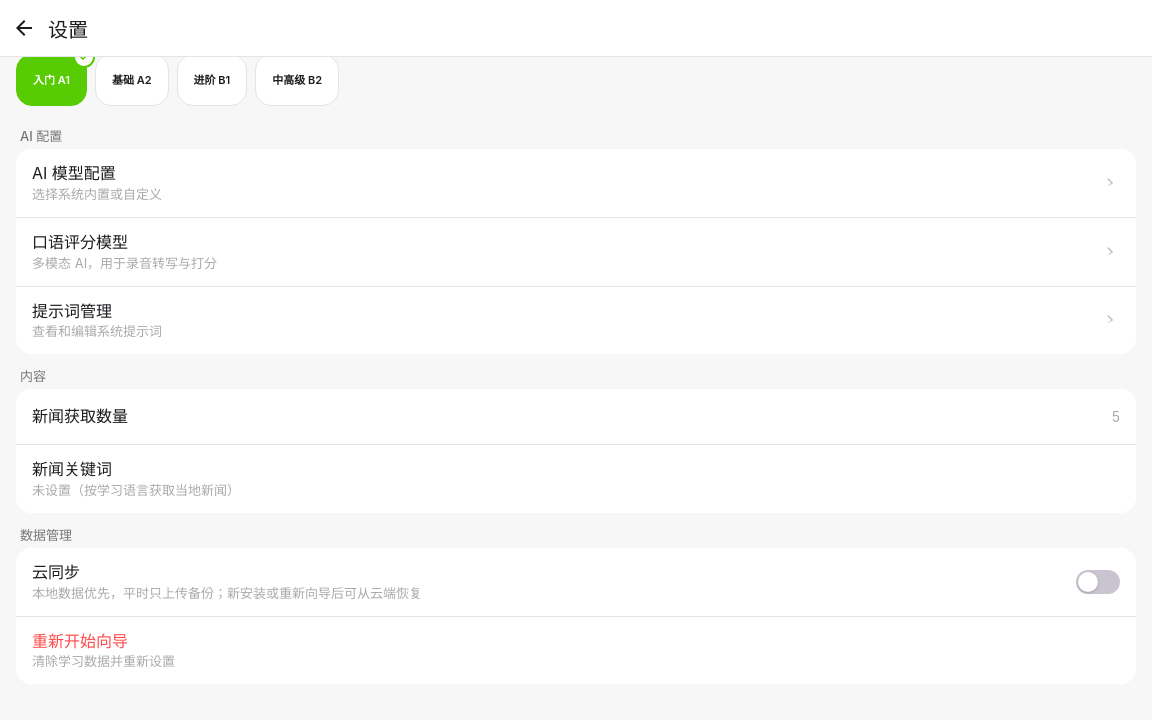
Scenario: SettingsPage › cloud sync enable failure keeps the switch off
(page scrolled)
What coordinates should you click on to do the following:
click the button with class "settings-item" that starts with "云同步"
I would click on:
 (56, 572)
Its box is [16, 548, 1136, 617].
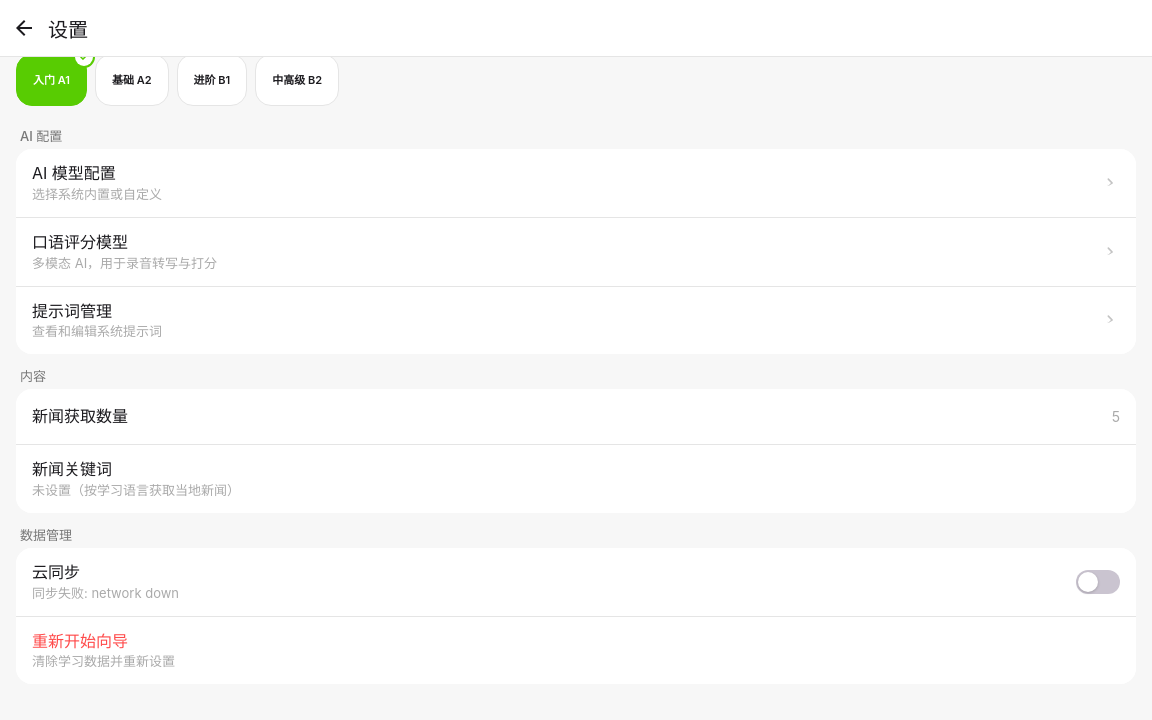
Expected: the text "同步失败" is shown, [32, 585, 179, 601]
